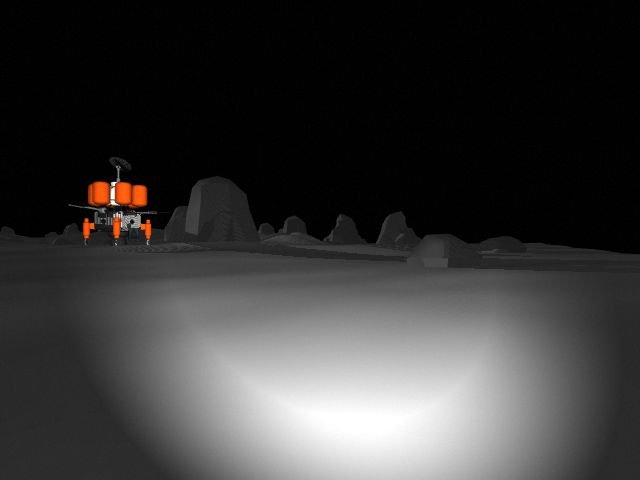homebase: (58, 151, 165, 248)
